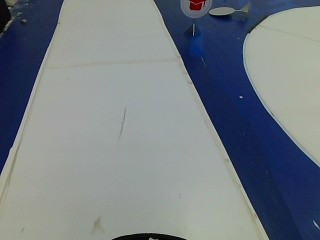school: (177, 0, 211, 22)
